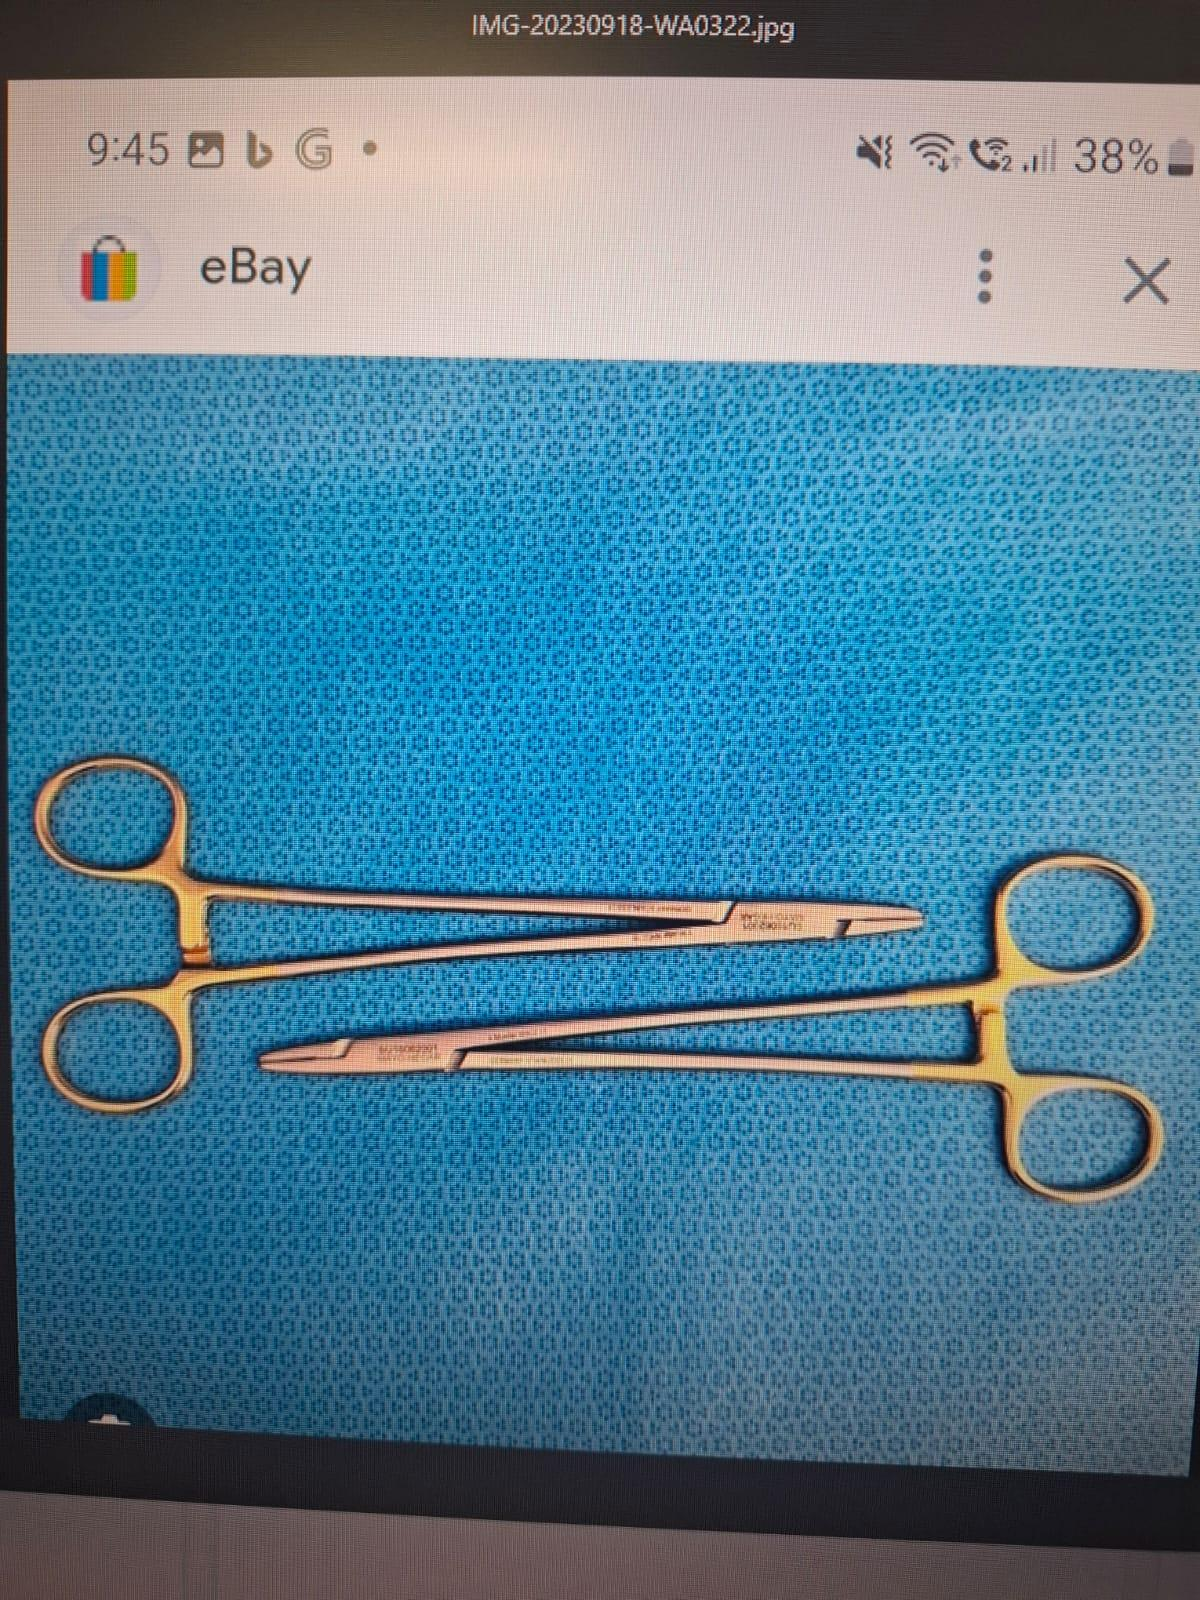Needle Holder: (250, 838, 1170, 1227), (20, 747, 925, 1115)
